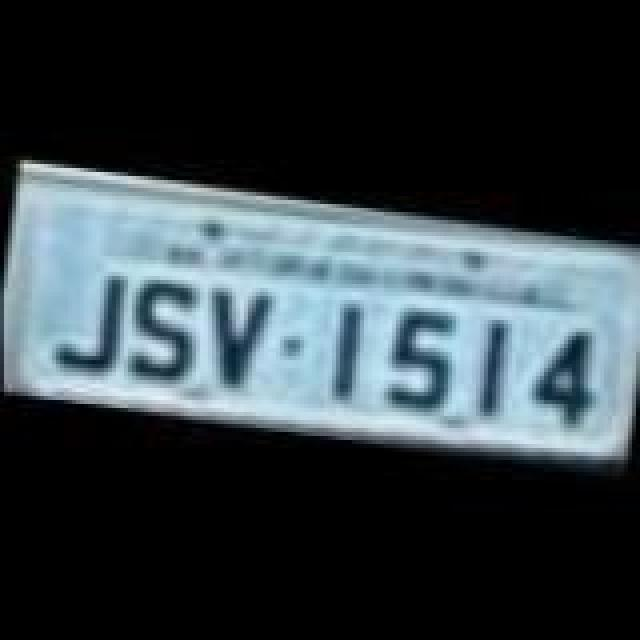1: (476, 318, 520, 426), (326, 296, 366, 408)
4: (522, 322, 606, 438)
5: (382, 304, 470, 420)
J: (54, 268, 134, 380)
S: (118, 278, 206, 390)
V: (194, 280, 282, 396)
